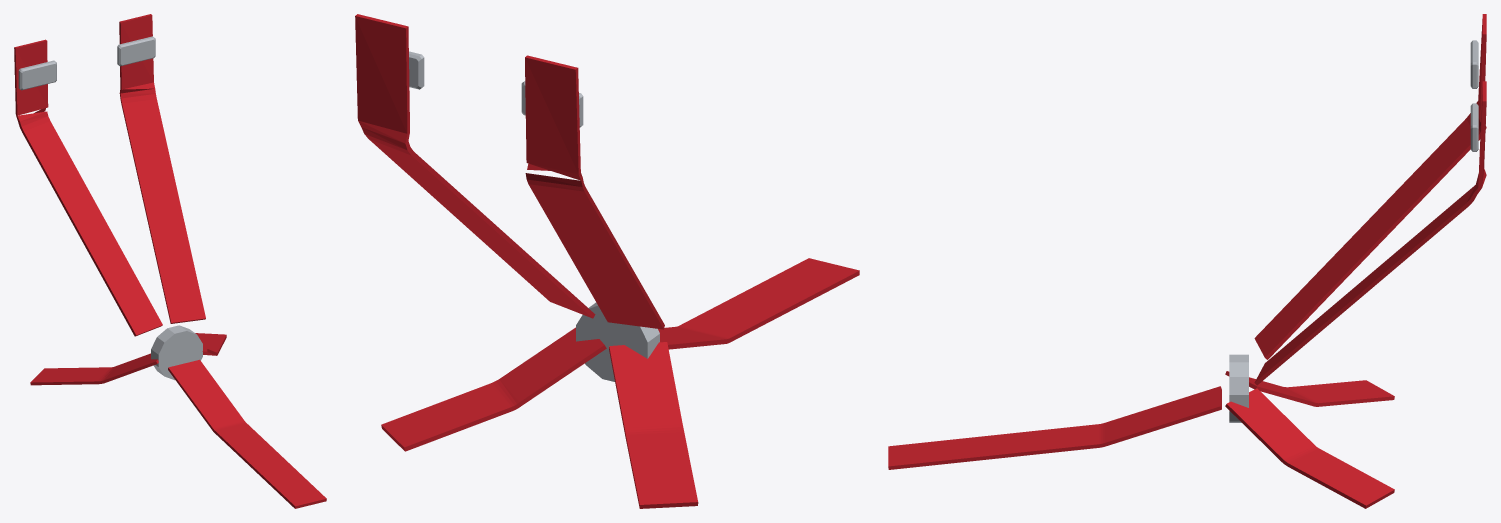
The model's file is hana_roadster.glb.
3 views of the same model, side by side, from view 1: azimuth 30°, elevation 25°; view 2: azimuth 150°, elevation 25°; view 3: azimuth 270°, elevation 25° (orthographic). The views are drawn at different scales.
Visible parts, largest first — view 1: model; view 2: model; view 3: model.
Part boxes in pixels (x1,y1,x2,y2): model: (14, 14, 326, 508); model: (355, 14, 859, 508); model: (888, 14, 1486, 508).
Size of the model in its own units: 0.2989 by 0.4468 by 0.6024.
1 material, 1 textured.
